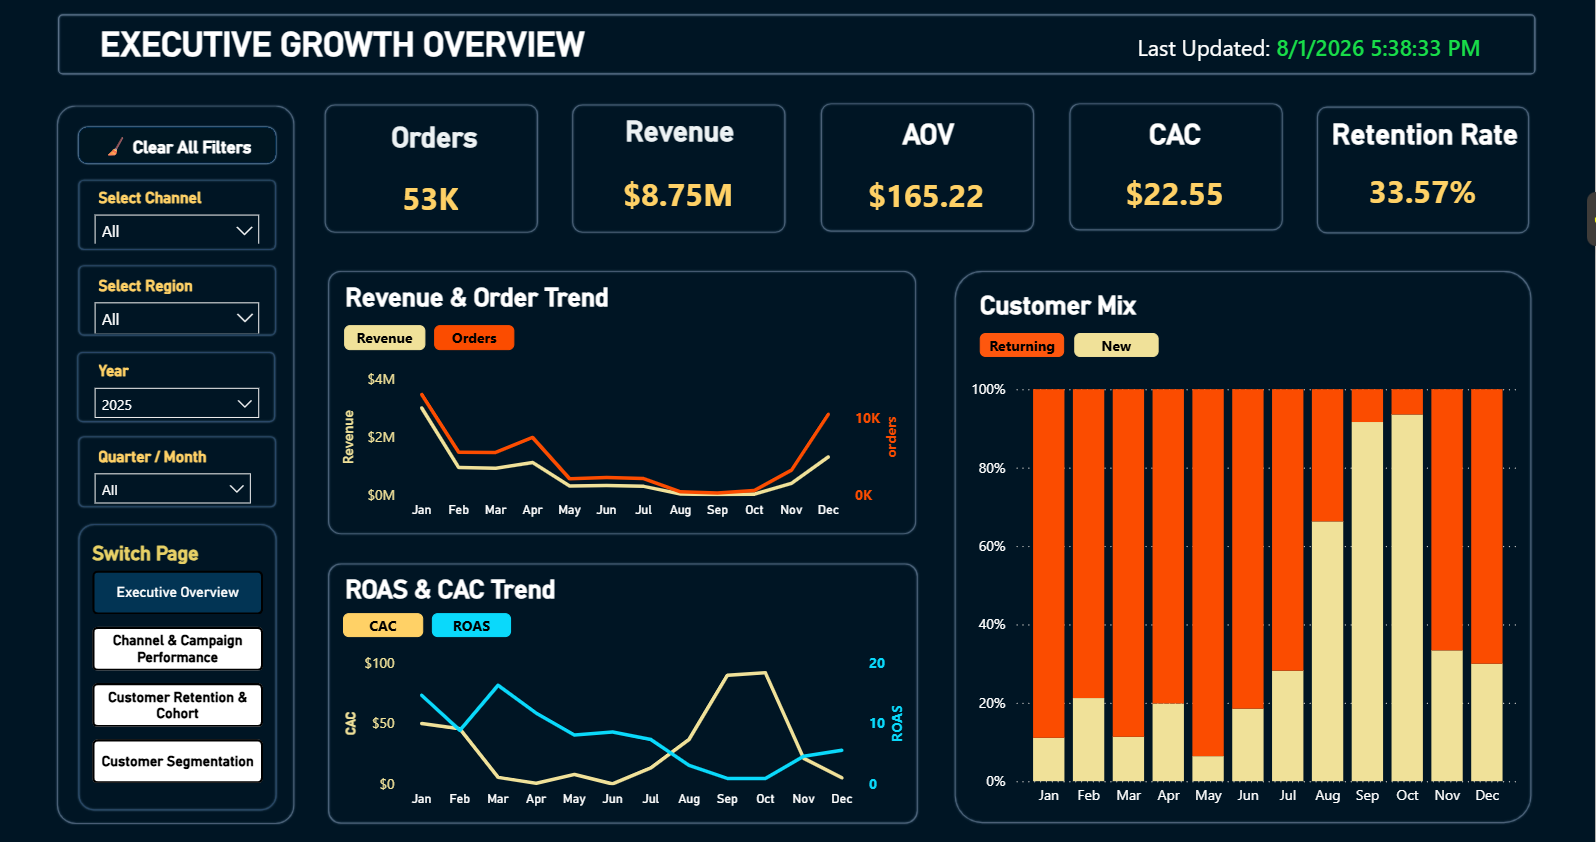

This screenshot's page, from the dashboard's own definition file:
{"tool":"powerbi","page":{"name":"Performance Overview","canvas":[1280,720],"ordinal":0},"visuals":[{"type":"cardVisual","fields":{"Data":["Min(dim_customers.loaded_at)"]},"box":[1007.6,4.8,239.8,62.8],"z":0,"group":"g31"},{"type":"textbox","title":"Title","box":[55,17.2,341.8,37.2],"z":0,"group":"g27"},{"type":"shape","box":[233.3,68.8,191.8,115.7],"z":0,"group":"g12"},{"type":"group","id":"g1","title":"CAC","box":[867.8,69.2,191.5,115.7],"z":0,"group":"g24"},{"type":"shape","box":[867.8,69.2,191.5,115.7],"z":0,"group":"g1"},{"type":"shape","box":[444.5,69.5,191.8,116.6],"z":0,"group":"g28"},{"type":"shape","box":[655.5,70.1,192,115.3],"z":0,"group":"g32"},{"type":"shape","title":"Shape","box":[10,70.6,205.9,634.4],"z":0,"group":"g26"},{"type":"shape","box":[1076.7,71.4,192,115.7],"z":0,"group":"g5"},{"type":"textbox","box":[742.7,84.4,49.3,36.1],"z":0,"group":"g14"},{"type":"textbox","box":[955.6,85.6,60.5,32.8],"z":0,"group":"g13"},{"type":"textbox","box":[513.9,85.9,96,42.8],"z":0,"group":"g16"},{"type":"actionButton","title":"Clear Filters","box":[25.2,87.3,132.9,27.2],"z":0,"group":"g17"},{"type":"textbox","box":[275.6,87.3,131.3,36.2],"z":0,"group":"g15"},{"type":"textbox","box":[1117.1,89.1,146.4,38.5],"z":0,"group":"g7"},{"type":"shape","box":[27.3,185.1,170,28.8],"z":0,"group":"g29"},{"type":"shape","box":[235,202.6,513.2,241.9],"z":0,"group":"g9"},{"type":"group","id":"g2","title":"Customer MIx","box":[766.5,204.5,502.9,501.4],"z":0,"group":"g25"},{"type":"shape","box":[766.5,204.5,502.9,501.4],"z":0,"group":"g2"},{"type":"textbox","box":[248.5,256,54.2,20.6],"z":0,"group":"g19"},{"type":"shape","box":[25.5,263.6,170,28.8],"z":0,"group":"g18"},{"type":"textbox","box":[792.4,264,72.4,21.3],"z":0,"group":"g20"},{"type":"shape","box":[25.4,339.9,170,28.8],"z":0,"group":"g10"},{"type":"group","id":"g3","title":"Quarter / Month","box":[23.9,388.3,179.2,59.5],"z":0,"group":"g8"},{"type":"shape","box":[27.7,419.1,170,28.8],"z":0,"group":"g3"},{"type":"shape","box":[235,462.6,513.2,241.9],"z":0,"group":"g21"},{"type":"textbox","box":[248.6,508.4,44.6,21.7],"z":0,"group":"g22"},{"type":"pageNavigator","title":"Switch Page","box":[21.2,509.2,185.7,185.7],"z":0,"group":"g34"},{"type":"actionButton","title":"Clear Filters","box":[30.5,509.3,33.3,38.6],"z":0,"group":"g11"},{"type":"actionButton","title":"Clear Filters","box":[30.5,559,33.3,38.6],"z":0,"group":"g23"},{"type":"actionButton","title":"Clear Filters","box":[30.5,606.8,33.3,38.6],"z":0,"group":"g30"},{"type":"actionButton","title":"Clear Filters","box":[30.5,655.3,33.3,38.6],"z":0,"group":"g33"},{"type":"group","id":"g4","title":"Navigation","box":[19.5,471.5,187.4,223.4],"z":500,"group":"g26"},{"type":"image","box":[13.5,10,44.3,40],"z":1000,"group":"g27"},{"type":"textbox","box":[913.7,21.2,138.7,34.9],"z":1000,"group":"g31"},{"type":"group","id":"g5","title":"Retention Rate","box":[1076.7,71.4,192,115.7],"z":1000,"group":"g24"},{"type":"image","box":[920.3,81.8,43.9,36.2],"z":1000,"group":"g13"},{"type":"image","title":"Tag","box":[714.9,83.2,29.4,35.3],"z":1000,"group":"g14"},{"type":"image","box":[268.1,83.4,36.2,35.9],"z":1000,"group":"g15"},{"type":"image","box":[481.1,83.4,35.8,35.7],"z":1000,"group":"g16"},{"type":"group","id":"g6","title":"SLicers","box":[21.1,87.3,181.9,360.5],"z":1000,"group":"g26"},{"type":"group","id":"g7","title":"Group 3","box":[1084.8,88.8,178.8,38.8],"z":1000,"group":"g5"},{"type":"image","box":[1084.8,88.8,36.5,35.6],"z":1000,"group":"g7"},{"type":"cardVisual","fields":{"Data":["Sum(agg_growth_daily.total_orders)"]},"box":[233.1,118.4,191.4,65.2],"z":1000,"group":"g12"},{"type":"cardVisual","fields":{"Data":["Sum(agg_growth_daily.total_revenue)"]},"box":[444.7,120.6,191.7,65],"z":1000,"group":"g28"},{"type":"cardVisual","fields":{"Data":["agg_growth_daily.Average Order Value"]},"box":[660.4,123,184.5,58.6],"z":1000,"group":"g32"},{"type":"group","id":"g8","title":"Filters","box":[21.1,123.1,181.9,324.7],"z":1000,"group":"g6"},{"type":"cardVisual","fields":{"Data":["agg_growth_daily.Customer Acquisition Cost"]},"box":[873.9,124.7,184.5,60.1],"z":1000,"group":"g1"},{"type":"slicer","fields":{"Values":["dim_channels.channel_name"]},"box":[23.8,151.2,177.5,56.7],"z":1000,"group":"g29"},{"type":"group","id":"g9","title":"Revenue Trend","box":[235,202.6,513.2,241.9],"z":1000,"group":"g25"},{"type":"slicer","fields":{"Values":["agg_customer_cohort.region"]},"box":[21.1,229.8,177.5,57.5],"z":1000,"group":"g18"},{"type":"textbox","box":[309,256,53.7,20.4],"z":1000,"group":"g19"},{"type":"textbox","box":[873.3,264,71.7,21.1],"z":1000,"group":"g20"},{"type":"lineChart","fields":{"Category":["dim_date.quarter_name","dim_date.month_name_short"],"Y":["Sum(agg_growth_daily.total_revenue)"],"Y2":["Sum(agg_growth_daily.total_orders)"]},"box":[243.6,287.2,496,148.4],"z":1000,"group":"g9"},{"type":"hundredPercentStackedColumnChart","fields":{"Category":["dim_date.month_name_short"],"Y":["Sum(agg_growth_daily.new_customers)","Sum(agg_growth_daily.returning_customers)"]},"box":[778.1,299.2,478,398],"z":1000,"group":"g2"},{"type":"slicer","fields":{"Values":["dim_date.year_value"]},"box":[22.2,307.8,177.5,56.7],"z":1000,"group":"g10"},{"type":"group","id":"g10","title":"Year","box":[22.2,307.8,177.5,60.9],"z":1000,"group":"g8"},{"type":"slicer","fields":{"Values":["dim_date.quarter_name","dim_date.month_name_short"]},"box":[23.9,388.3,179.2,57.5],"z":1000,"group":"g3"},{"type":"textbox","box":[298.5,508.4,44.2,21.4],"z":1000,"group":"g22"},{"type":"group","id":"g11","title":"Clear Filters","box":[30.5,509.3,33.3,38.6],"z":1000,"group":"g34"},{"type":"lineChart","fields":{"Category":["dim_date.quarter_name","dim_date.month_name_short"],"Y":["agg_growth_daily.Customer Acquisition Cost"],"Y2":["agg_growth_daily.ROAS_agg_groth_daily"]},"box":[246.2,540,497.7,155.3],"z":1000,"group":"g21"},{"type":"group","id":"g12","title":"Orders","box":[233.1,68.8,192,115.7],"z":2000,"group":"g24"},{"type":"group","id":"g13","title":"Title","box":[920.3,81.8,95.8,36.6],"z":2000,"group":"g1"},{"type":"group","id":"g14","title":"Title","box":[714.9,83.2,77.1,37.4],"z":2000,"group":"g32"},{"type":"group","id":"g15","title":"Title","box":[268.1,83.4,138.9,40.2],"z":2000,"group":"g12"},{"type":"group","id":"g16","title":"Title","box":[481.1,83.4,128.8,45.3],"z":2000,"group":"g28"},{"type":"group","id":"g17","title":"Clear Filters","box":[25.2,87.3,132.9,27.2],"z":2000,"group":"g6"},{"type":"cardVisual","fields":{"Data":["agg_customer_cohort.Retention Rate"]},"box":[1082.7,123.9,185.9,58.6],"z":2000,"group":"g5"},{"type":"group","id":"g18","title":"Region","box":[21.1,229.8,177.5,62.5],"z":2000,"group":"g8"},{"type":"group","id":"g19","title":"Legend","box":[248.5,256,114,21.2],"z":2000,"group":"g9"},{"type":"group","id":"g20","title":"Legend","box":[792.4,264,152.4,20.6],"z":2000,"group":"g2"},{"type":"group","id":"g21","title":"ROAS & CAC","box":[235,462.6,513.2,241.9],"z":2000,"group":"g25"},{"type":"group","id":"g22","title":"Legend","box":[248.6,508.4,93.9,22.3],"z":2000,"group":"g21"},{"type":"group","id":"g23","title":"Clear Filters","box":[30.5,559,33.3,38.6],"z":2000,"group":"g34"},{"type":"group","id":"g24","title":"KPI Cards","box":[233.1,68.8,1035.6,118.3],"z":2125},{"type":"group","id":"g25","title":"Charts","box":[235,202.6,1034.3,503.4],"z":2250},{"type":"group","id":"g26","title":"Left Panel","box":[10,70.6,205.9,634.4],"z":2500},{"type":"group","id":"g27","title":"Title","box":[13.5,10,383.3,44.3],"z":3000},{"type":"group","id":"g28","title":"Revenue","box":[444.5,69.5,192,116.6],"z":3000,"group":"g24"},{"type":"group","id":"g29","title":"Channel Slicer","box":[23.8,151.2,177.5,62.6],"z":3000,"group":"g8"},{"type":"textbox","box":[246.5,208.8,285.7,43.1],"z":3000,"group":"g9"},{"type":"textbox","box":[786.9,219.9,170.4,41.1],"z":3000,"group":"g2"},{"type":"textbox","box":[246.5,468.7,242.6,44.1],"z":3000,"group":"g21"},{"type":"group","id":"g30","title":"Clear Filters","box":[30.5,606.8,33.3,38.6],"z":3000,"group":"g34"},{"type":"group","id":"g31","title":"Last Updated","box":[913.7,4.8,333.7,62.8],"z":4000},{"type":"group","id":"g32","title":"AOV","box":[655.5,70.1,192,115.3],"z":4000,"group":"g24"},{"type":"textbox","box":[26.9,123.1,166.2,31],"z":4000,"group":"g8"},{"type":"group","id":"g33","title":"Clear Filters","box":[30.5,655.3,33.3,38.6],"z":4000,"group":"g34"},{"type":"group","id":"g34","title":"Group 1","box":[21.2,509.2,185.7,185.7],"z":5000,"group":"g4"},{"type":"textbox","box":[19.5,471.5,96.1,36.4],"z":6000,"group":"g4"}]}

Visuals, with their boxes on the page's 1280x720 design canvas (x1, y1, x2, y2). These are canvas units, not pixel positions in the 1596x842 screenshot, which may show the page scaled, cropped or inside an application window:
cardVisual - Min(dim_customers.loaded_at): 1008, 5, 1247, 68
"Title" textbox: 55, 17, 397, 54
shape: 233, 69, 425, 184
"CAC" group: 868, 69, 1059, 185
shape: 868, 69, 1059, 185
shape: 444, 70, 636, 186
shape: 656, 70, 848, 185
"Shape" shape: 10, 71, 216, 705
shape: 1077, 71, 1269, 187
textbox: 743, 84, 792, 120
textbox: 956, 86, 1016, 118
textbox: 514, 86, 610, 129
"Clear Filters" actionButton: 25, 87, 158, 114
textbox: 276, 87, 407, 124
textbox: 1117, 89, 1264, 128
shape: 27, 185, 197, 214
shape: 235, 203, 748, 444
"Customer MIx" group: 766, 204, 1269, 706
shape: 766, 204, 1269, 706
textbox: 248, 256, 303, 277
shape: 26, 264, 196, 292
textbox: 792, 264, 865, 285
shape: 25, 340, 195, 369
"Quarter / Month" group: 24, 388, 203, 448
shape: 28, 419, 198, 448
shape: 235, 463, 748, 704
textbox: 249, 508, 293, 530
"Switch Page" pageNavigator: 21, 509, 207, 695
"Clear Filters" actionButton: 30, 509, 64, 548
"Clear Filters" actionButton: 30, 559, 64, 598
"Clear Filters" actionButton: 30, 607, 64, 645
"Clear Filters" actionButton: 30, 655, 64, 694
"Navigation" group: 20, 472, 207, 695
image: 14, 10, 58, 50
textbox: 914, 21, 1052, 56
"Retention Rate" group: 1077, 71, 1269, 187
image: 920, 82, 964, 118
"Tag" image: 715, 83, 744, 118
image: 268, 83, 304, 119
image: 481, 83, 517, 119
"SLicers" group: 21, 87, 203, 448
"Group 3" group: 1085, 89, 1264, 128
image: 1085, 89, 1121, 124
cardVisual - Sum(agg_growth_daily.total_orders): 233, 118, 424, 184
cardVisual - Sum(agg_growth_daily.total_revenue): 445, 121, 636, 186
cardVisual - agg_growth_daily.Average Order Value: 660, 123, 845, 182
"Filters" group: 21, 123, 203, 448
cardVisual - agg_growth_daily.Customer Acquisition Cost: 874, 125, 1058, 185
slicer - dim_channels.channel_name: 24, 151, 201, 208
"Revenue Trend" group: 235, 203, 748, 444
slicer - agg_customer_cohort.region: 21, 230, 199, 287
textbox: 309, 256, 363, 276
textbox: 873, 264, 945, 285
lineChart - dim_date.quarter_name x dim_date.month_name_short: 244, 287, 740, 436
hundredPercentStackedColumnChart - dim_date.month_name_short x Sum(agg_growth_daily.new_customers): 778, 299, 1256, 697
slicer - dim_date.year_value: 22, 308, 200, 364
"Year" group: 22, 308, 200, 369
slicer - dim_date.quarter_name x dim_date.month_name_short: 24, 388, 203, 446
textbox: 298, 508, 343, 530
"Clear Filters" group: 30, 509, 64, 548
lineChart - dim_date.quarter_name x dim_date.month_name_short: 246, 540, 744, 695
"Orders" group: 233, 69, 425, 184
"Title" group: 920, 82, 1016, 118
"Title" group: 715, 83, 792, 121
"Title" group: 268, 83, 407, 124
"Title" group: 481, 83, 610, 129
"Clear Filters" group: 25, 87, 158, 114
cardVisual - agg_customer_cohort.Retention Rate: 1083, 124, 1269, 182
"Region" group: 21, 230, 199, 292
"Legend" group: 248, 256, 362, 277
"Legend" group: 792, 264, 945, 285
"ROAS & CAC" group: 235, 463, 748, 704
"Legend" group: 249, 508, 342, 531
"Clear Filters" group: 30, 559, 64, 598
"KPI Cards" group: 233, 69, 1269, 187
"Charts" group: 235, 203, 1269, 706
"Left Panel" group: 10, 71, 216, 705
"Title" group: 14, 10, 397, 54
"Revenue" group: 444, 70, 636, 186
"Channel Slicer" group: 24, 151, 201, 214
textbox: 246, 209, 532, 252
textbox: 787, 220, 957, 261
textbox: 246, 469, 489, 513
"Clear Filters" group: 30, 607, 64, 645
"Last Updated" group: 914, 5, 1247, 68
"AOV" group: 656, 70, 848, 185
textbox: 27, 123, 193, 154
"Clear Filters" group: 30, 655, 64, 694
"Group 1" group: 21, 509, 207, 695
textbox: 20, 472, 116, 508
